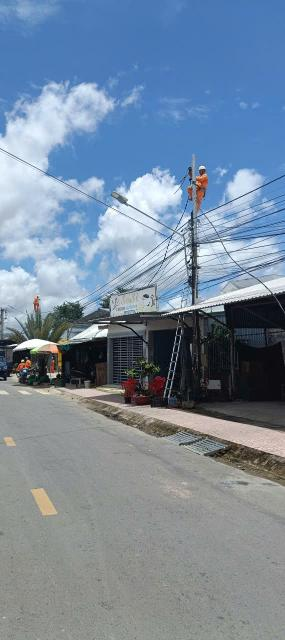harness: (197, 185, 210, 195)
helmet: (198, 166, 208, 172), (21, 360, 25, 363), (25, 357, 29, 360), (51, 356, 54, 359), (37, 294, 39, 297)
shoes: (187, 196, 195, 202)
